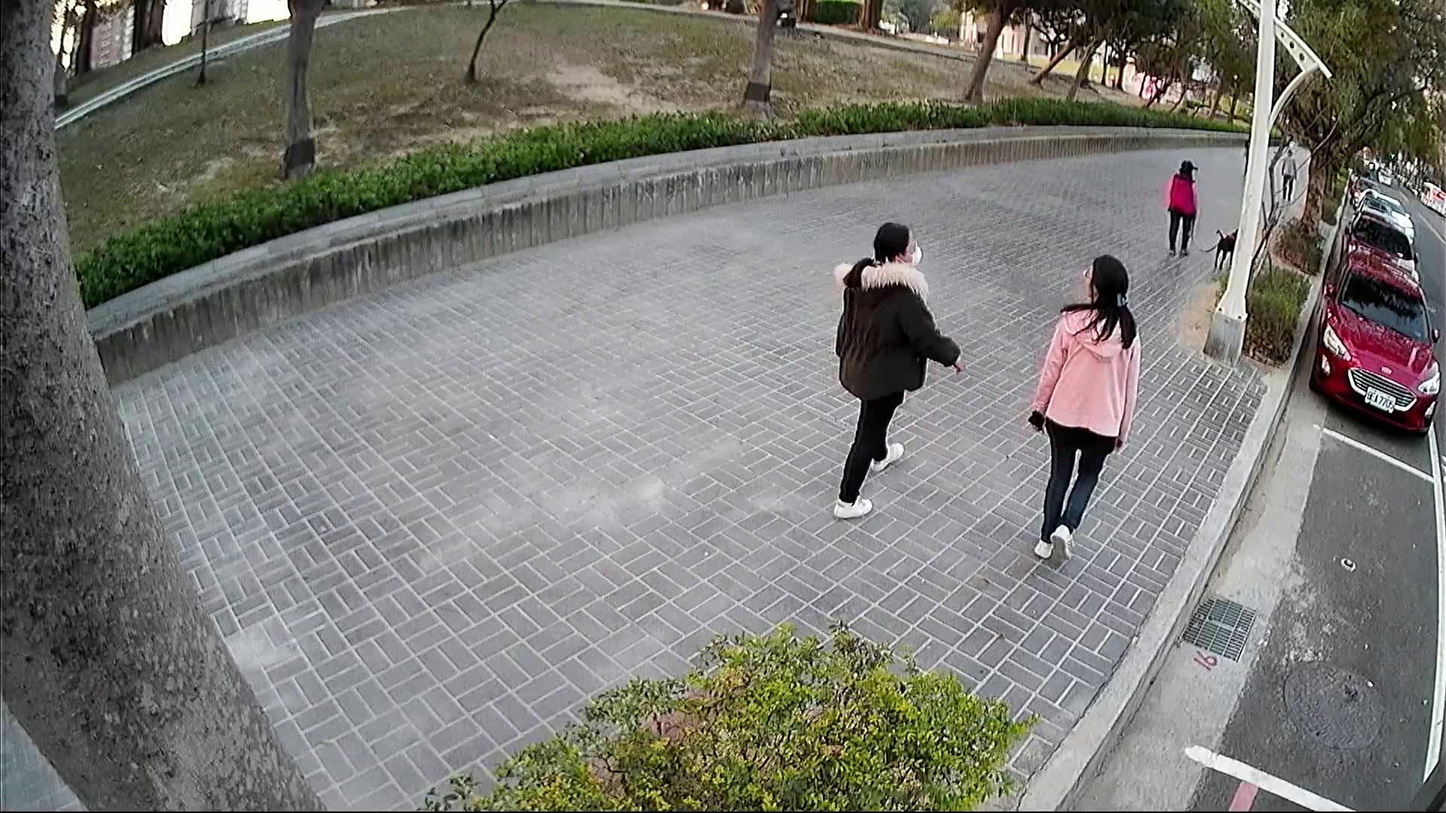person: (822, 210, 969, 526), (1023, 245, 1146, 568), (1158, 154, 1202, 262)
